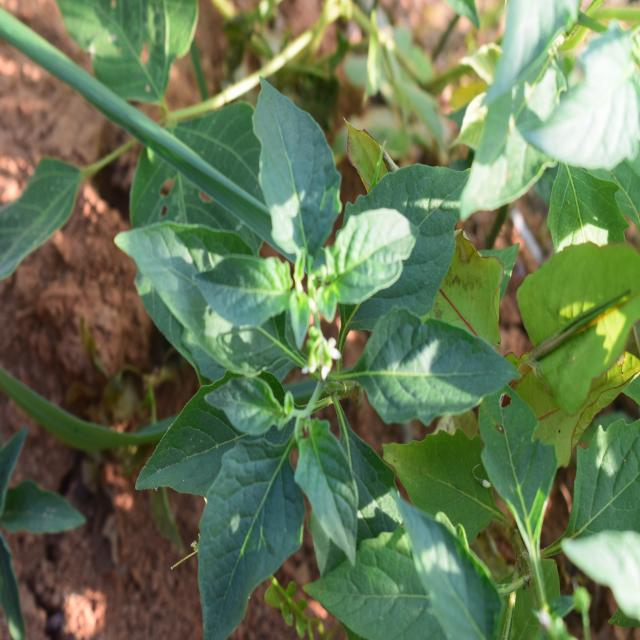Black_nightshade: (138, 94, 472, 586)
